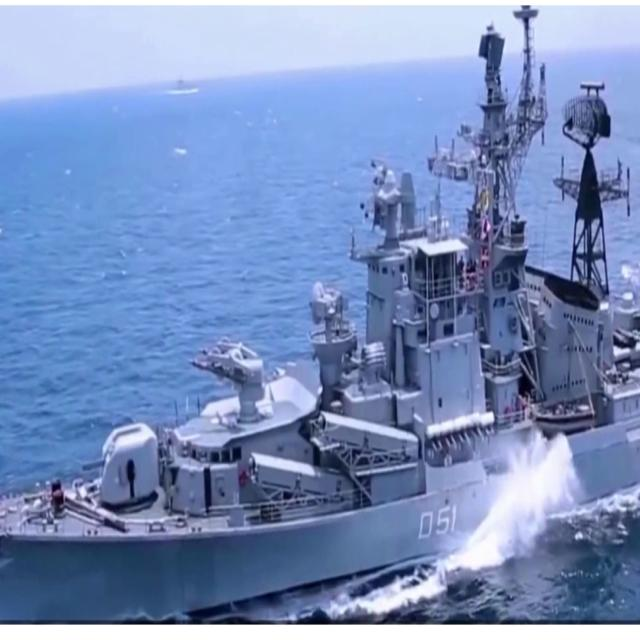OCR: (412, 497, 459, 547)
